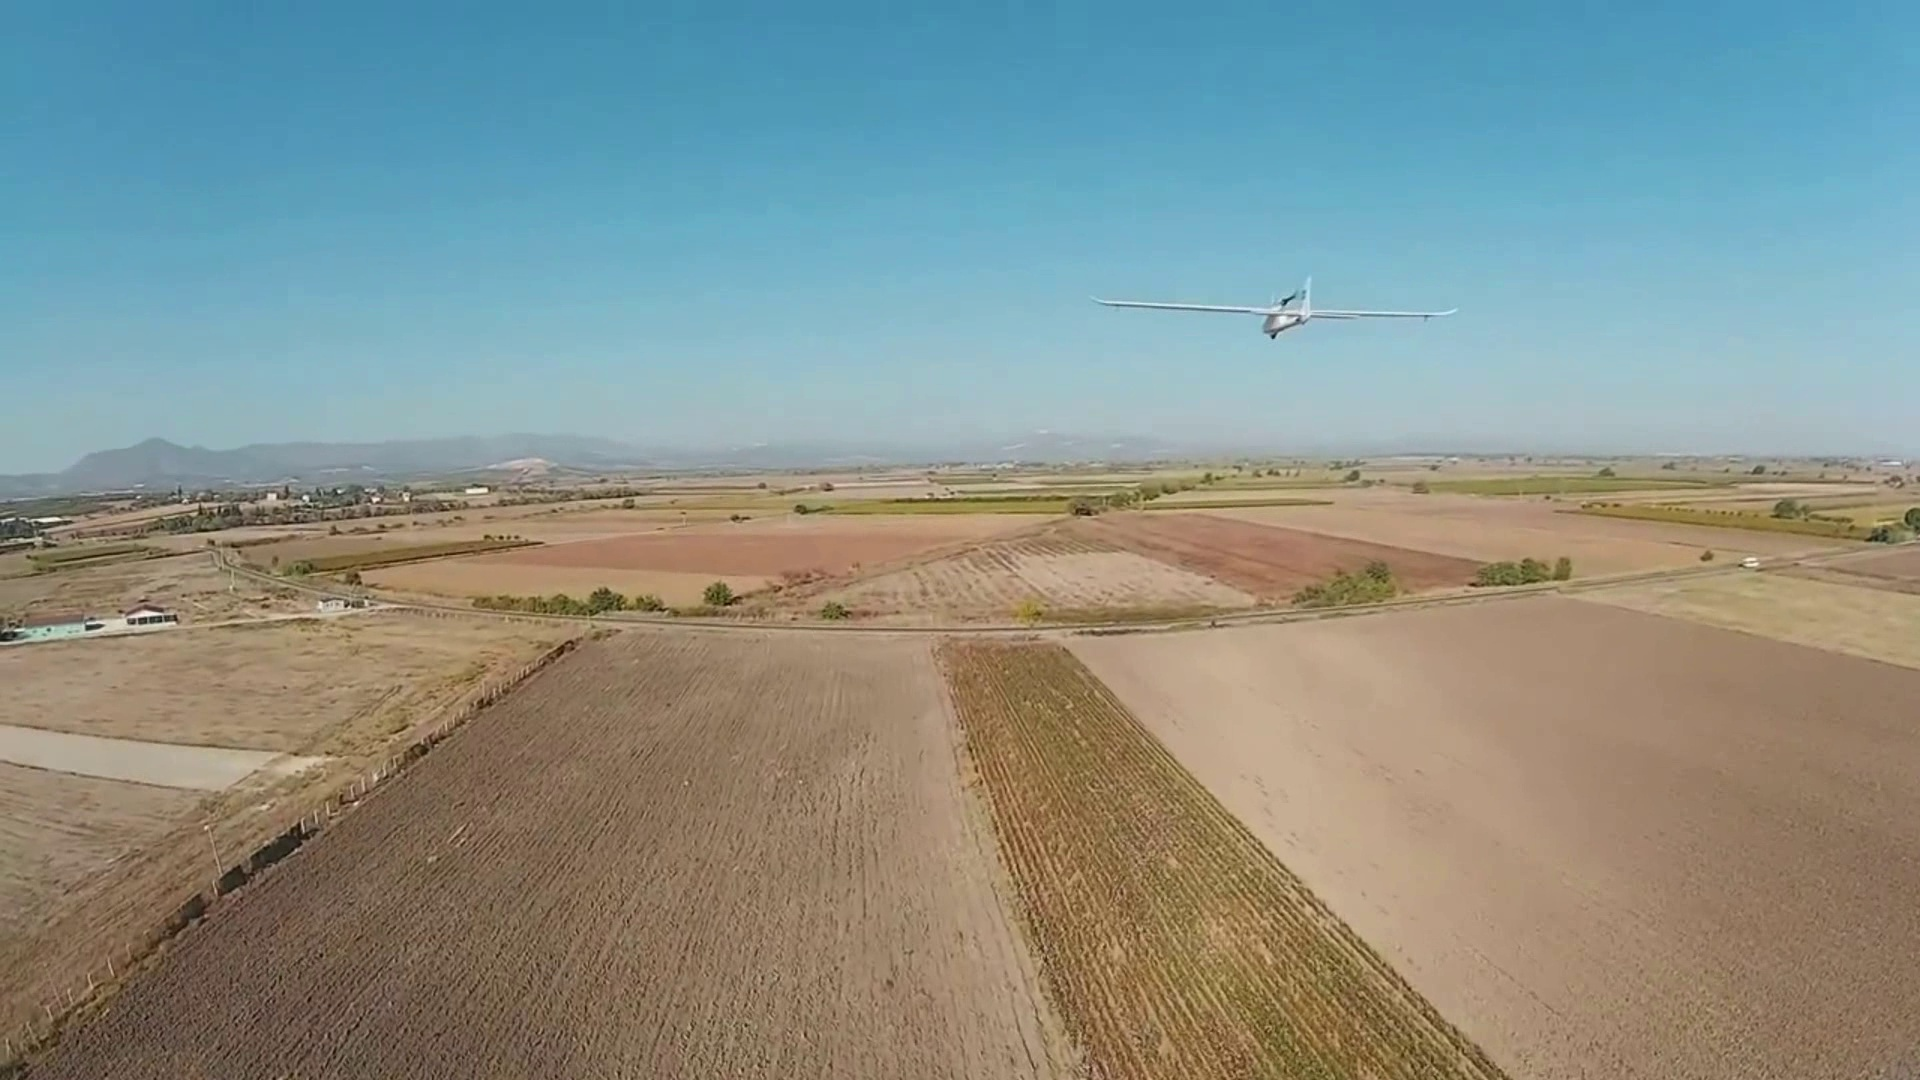airplane: (1095, 276, 1456, 338)
